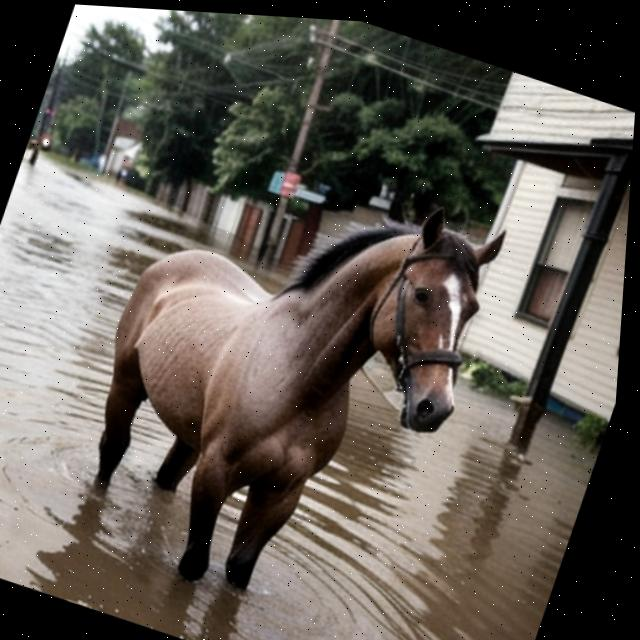horse: (0, 91, 539, 640)
